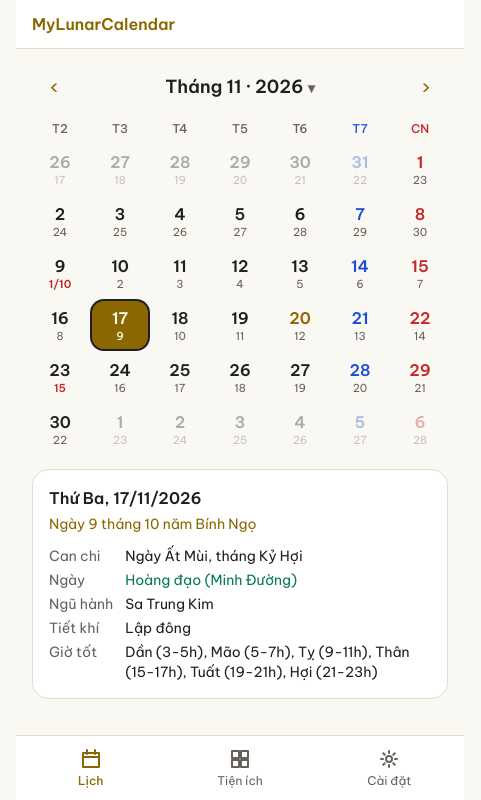
Scenario: chưa bật AI (HORO-UC01/BR-8) › server chưa có key Gemini: không có Tử vi/Hồ sơ, nút Hỏi AI; link cũ về Lịch; Tiện ích vẫn đổi ngày
Expected: the table named "Lịch tháng 11 năm 2026" is shown, [32,117,448,453]
Click the link "Tiện ích".
click(240, 768)  # box [217,747,263,788]
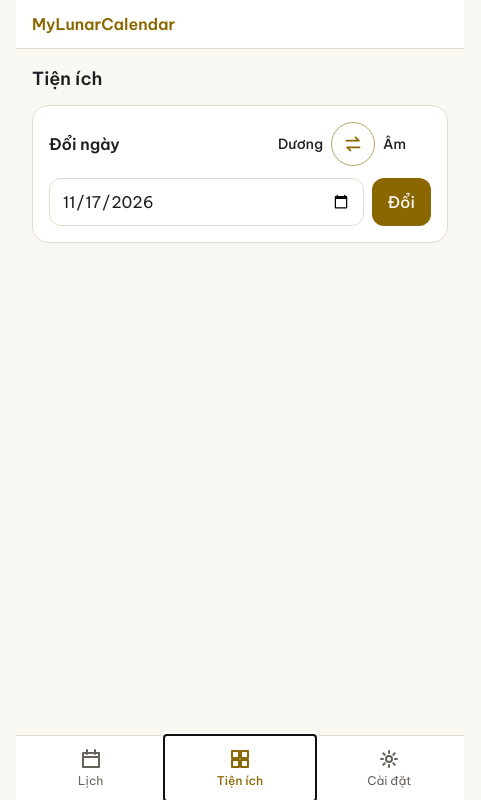
Expected: the element named "Đổi ngày âm dương" is shown, [32,105,448,243]
